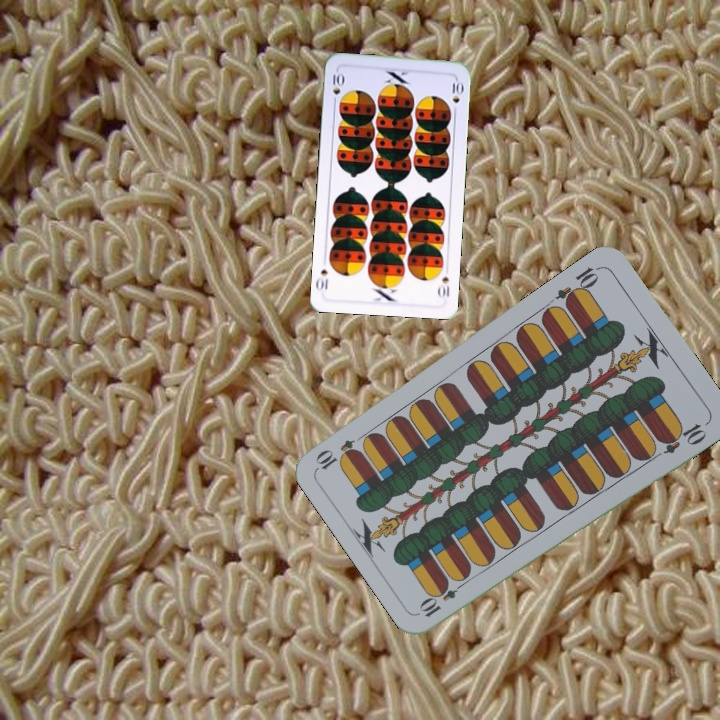E10: (552, 262, 604, 309), (416, 575, 469, 620)
S10: (329, 67, 346, 108), (434, 271, 452, 299)
